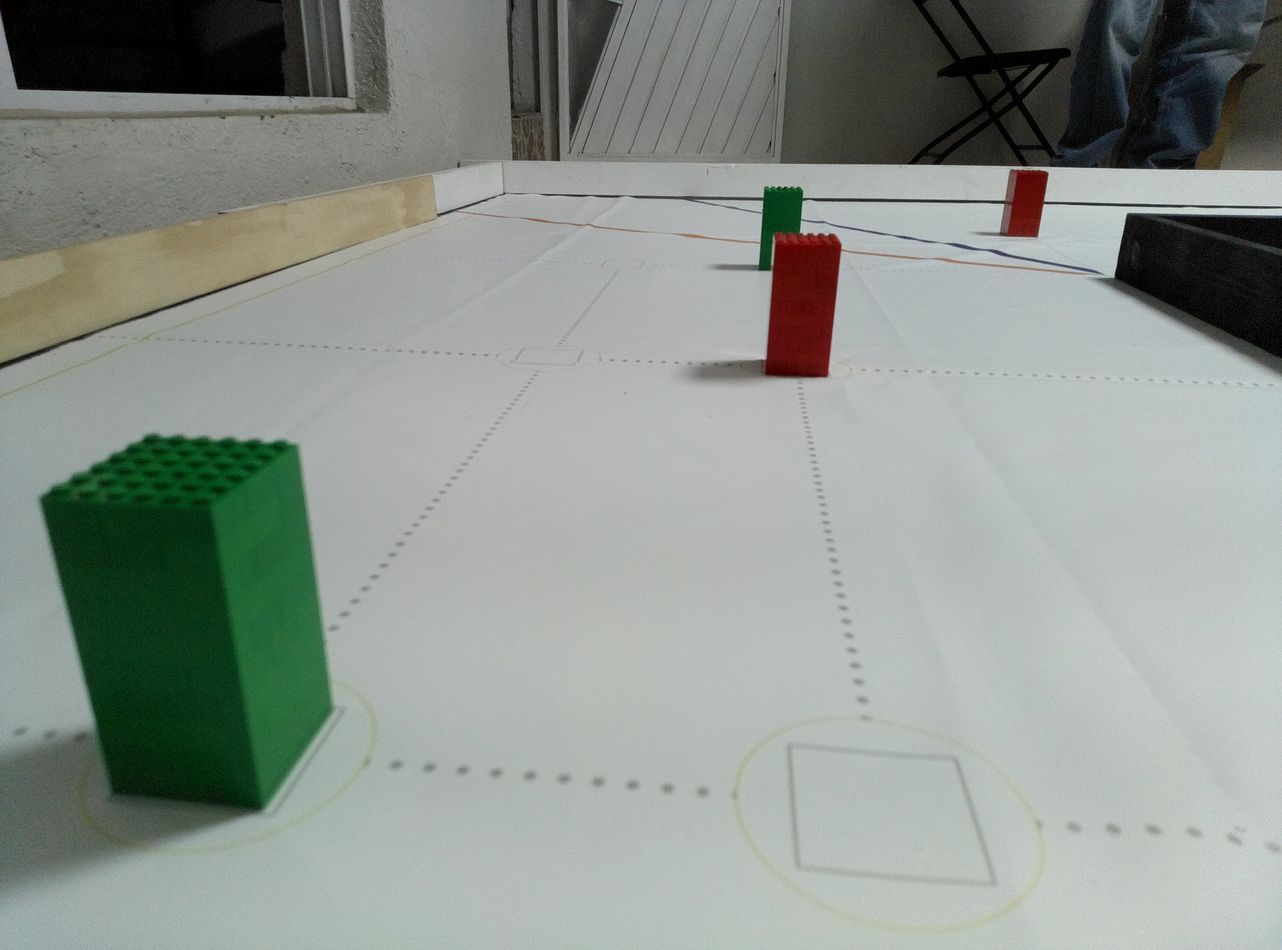greenbox: (35, 429, 339, 815), (760, 186, 804, 233), (757, 233, 773, 271)
redbox: (764, 233, 843, 379), (997, 168, 1049, 239)
